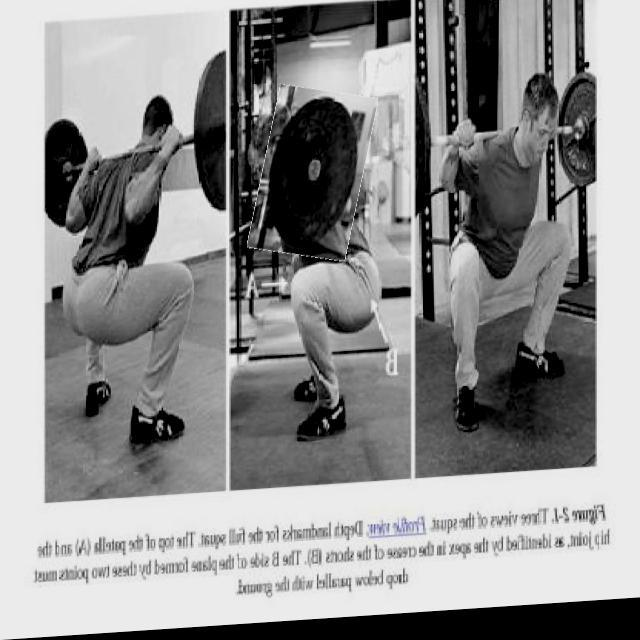barbell: (256, 90, 371, 268)
